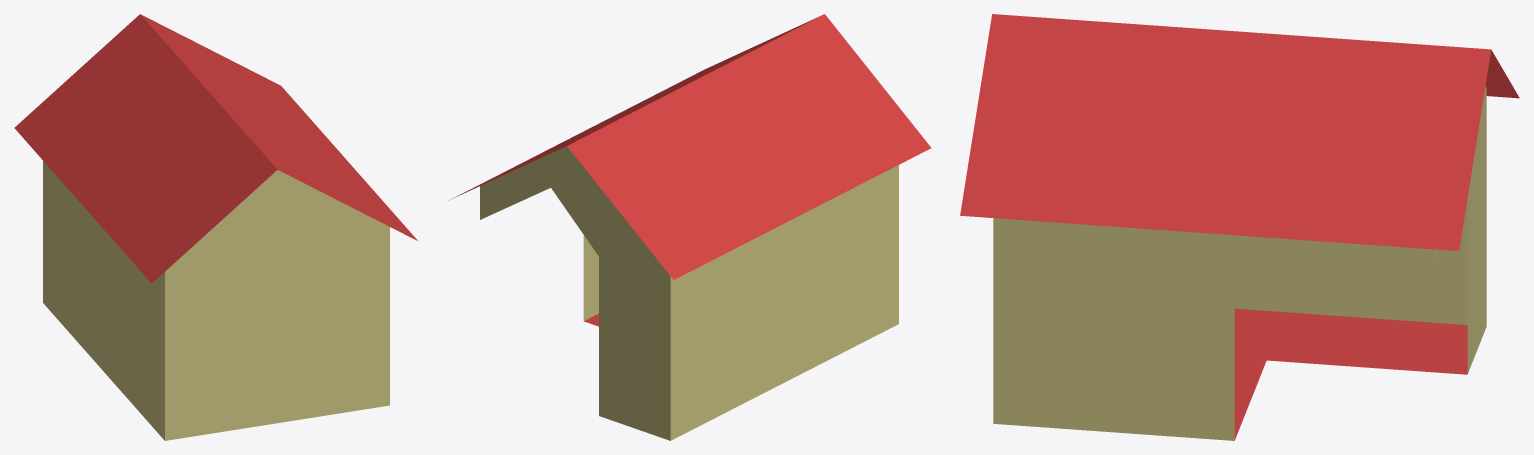
3 renders of one model, left to right at view 1: azimuth 30°, elevation 25°; view 2: azimuth 150°, elevation 25°; view 3: azimuth 270°, elevation 25°, orthographic. The views are drawn at different scales.
Size of the model in its own units: 15.44 by 19.41 by 12.97.
